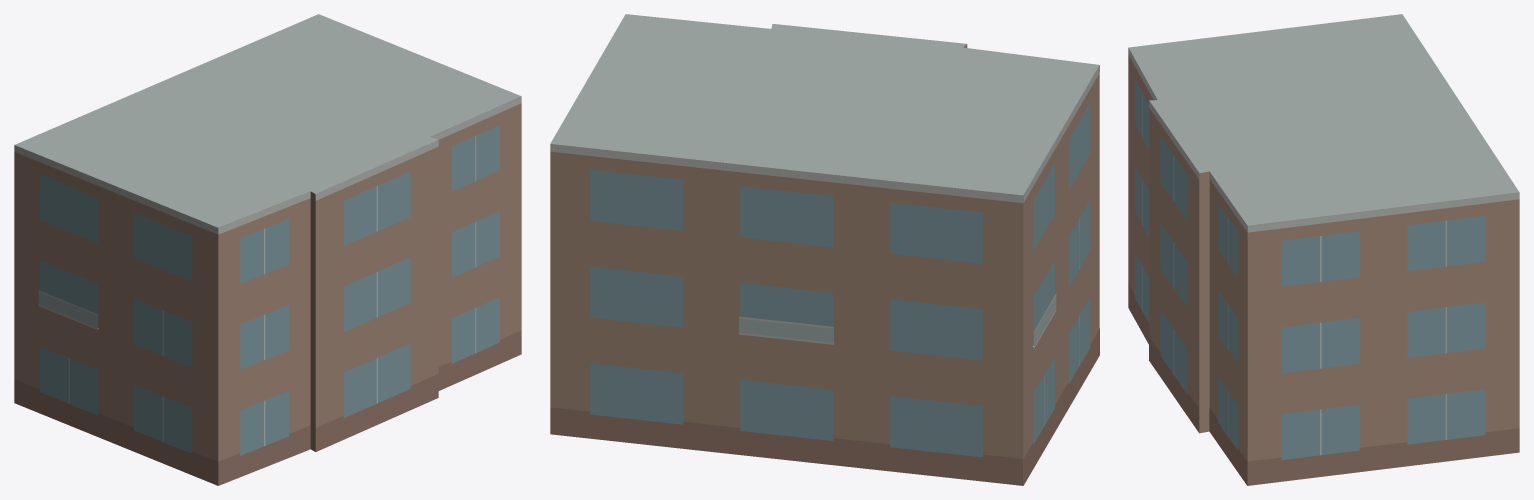
File: survey-upis-33012258.glb
The picture shows the model from 3 angles, left to right: view 1: azimuth 30°, elevation 25°; view 2: azimuth 150°, elevation 25°; view 3: azimuth 270°, elevation 25°; orthographic projection. The views are drawn at different scales.
Parts seen in each view (by area): view 1: survey-upis-33012258.tmp; view 2: survey-upis-33012258.tmp; view 3: survey-upis-33012258.tmp.
Boxes of the visible parts, x1,y1,x2,y2 form: survey-upis-33012258.tmp: (14,14,521,485); survey-upis-33012258.tmp: (550,14,1099,485); survey-upis-33012258.tmp: (1128,14,1519,485).
Size of the model in its own units: 15.98 by 9.15 by 12.48.
